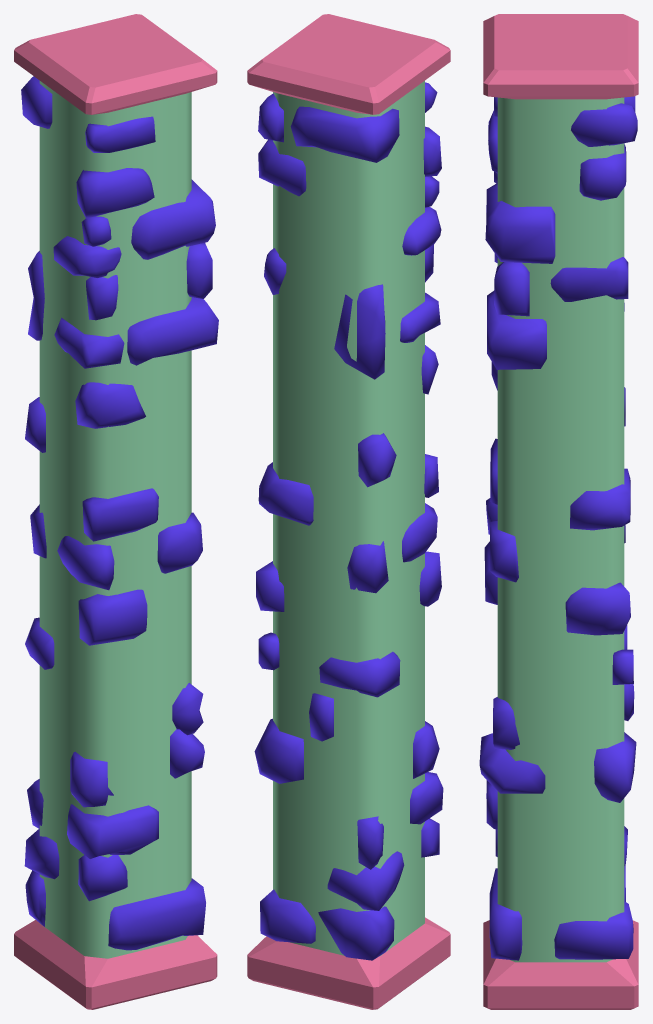
File: Colum.fbx
3 renders of one model, left to right at view 1: azimuth 30°, elevation 25°; view 2: azimuth 150°, elevation 25°; view 3: azimuth 270°, elevation 25°, orthographic. The views are drawn at different scales.
Visible parts, largest first — view 1: Colum; view 2: Colum; view 3: Colum.
Boxes of the visible parts, left/top/right/bottom form: Colum: left=14, top=14, right=218, bottom=1009; Colum: left=247, top=14, right=450, bottom=1009; Colum: left=479, top=14, right=638, bottom=1009.
Size of what is drawn, in the model's own units: 0.7721 by 5 by 0.7693.
